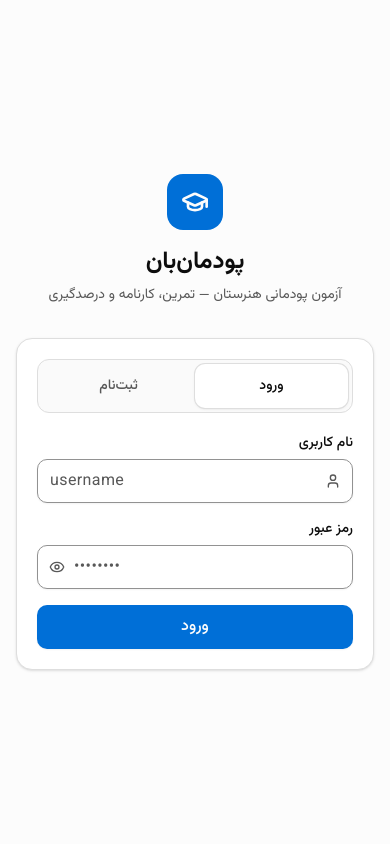
Test: Password warning › warns on the register tab that the password is unrecoverable, not on login
Expected: the field with placeholder "username" is shown, [37, 459, 353, 503]
Expected: the text "قابل بازیابی نیست" is not shown
Click the tab "ثبت‌نام": [118, 386] box [42, 364, 195, 408]
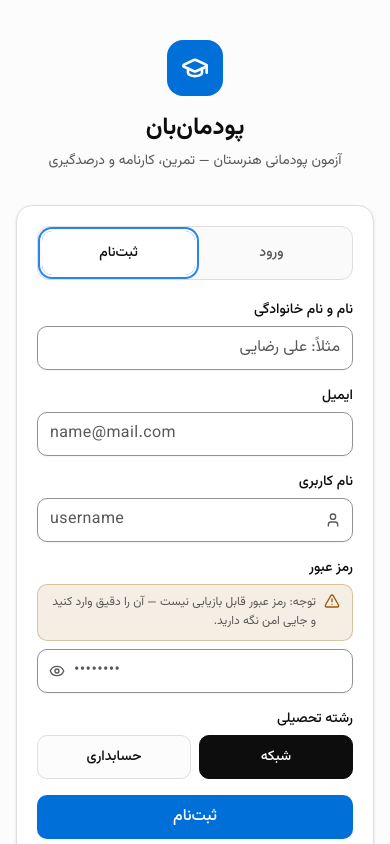
Expected: the text "قابل بازیابی نیست" is shown, [52, 593, 316, 630]
